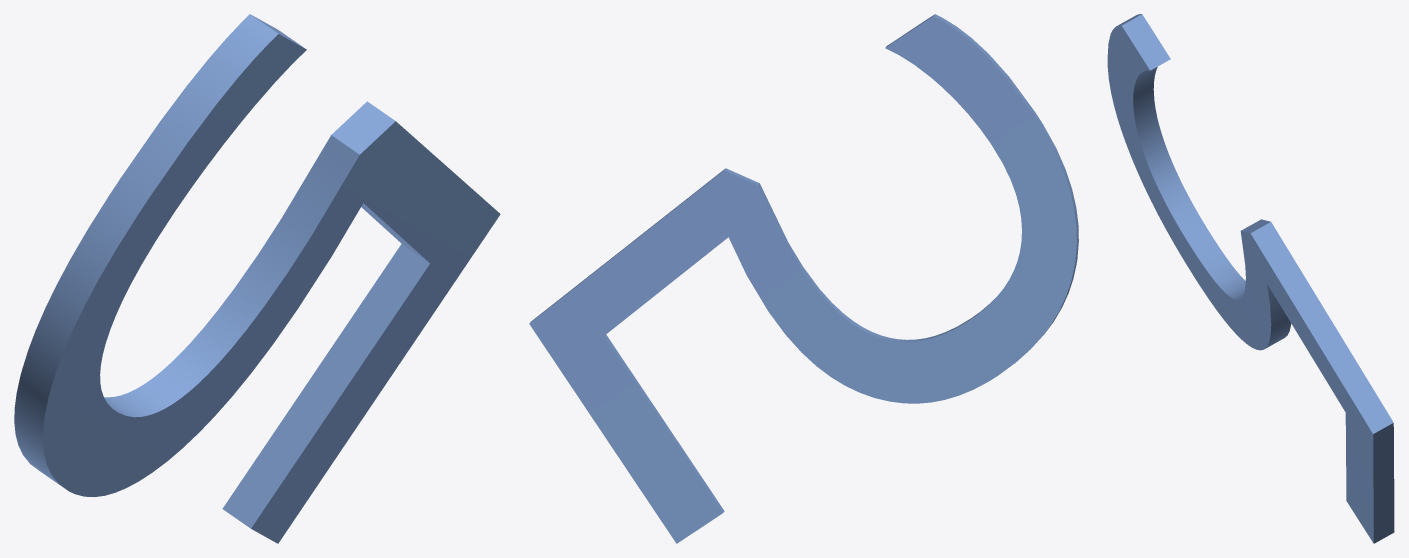
Rendered from New_Number_5.gltf.
The picture shows the model from 3 angles, left to right: view 1: azimuth 30°, elevation 25°; view 2: azimuth 150°, elevation 25°; view 3: azimuth 270°, elevation 25°; orthographic projection. The views are drawn at different scales.
Parts seen in each view (by area): view 1: Part 23; view 2: Part 23; view 3: Part 23.
Part boxes in pixels (bbox=[...]): Part 23: bbox=[14, 14, 500, 543]; Part 23: bbox=[529, 14, 1078, 543]; Part 23: bbox=[1107, 14, 1394, 543].
Size of the model in its own units: 0.00513 by 0.00537 by 0.00301.
